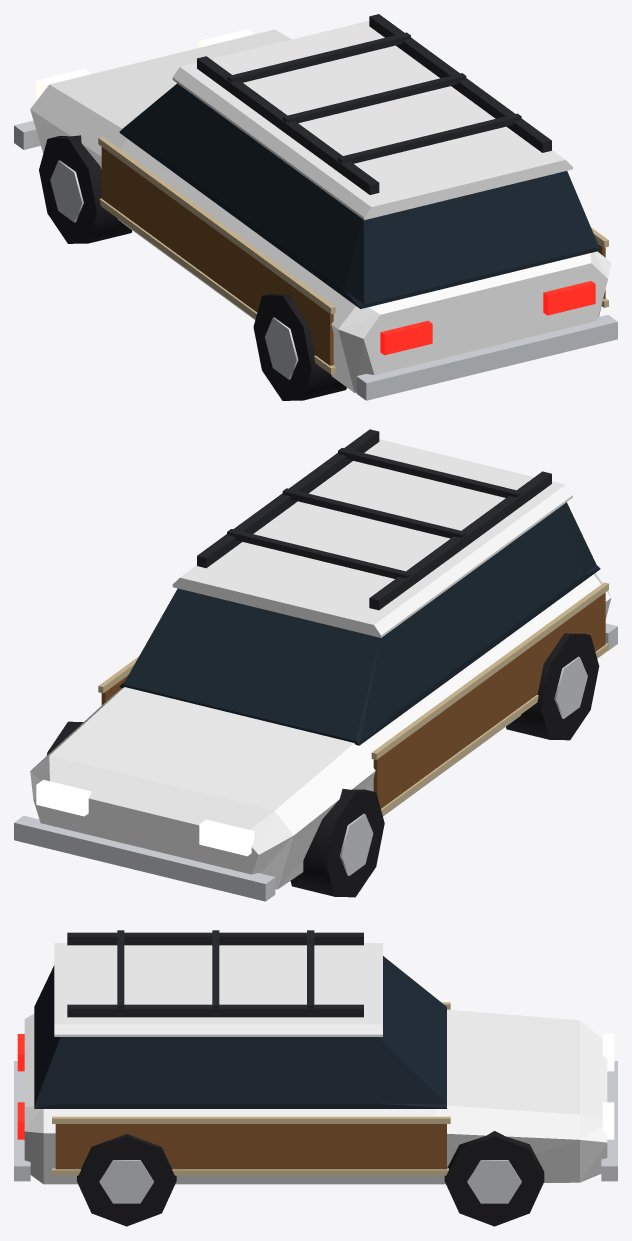
Rendered from wagon.glb.
The picture shows the model from 3 angles, top to bottom: view 1: azimuth 30°, elevation 25°; view 2: azimuth 150°, elevation 25°; view 3: azimuth 270°, elevation 25°; orthographic projection. The views are drawn at different scales.
Parts seen in each view (by area): view 1: object 2, object 3, object 1, object 4, wheel (×2), object 16, object 7, object 11, object 5, wheel-hub (×2), object 14, object 12 (+5 smaller); view 2: object 2, object 1, object 3, object 4, wheel (×2), object 15, object 7, object 11, object 5, wheel-hub (×2), object 12, object 14 (+4 smaller); view 3: object 2, object 1, object 3, object 8, wheel (×2), object 11, object 7, wheel-hub (×2), object 9, object 10, object 15, object 16 (+5 smaller).
Boxes of the visible parts, box(x1,y1,x2,y2) form: object 2: box(119, 83, 600, 308); object 3: box(172, 21, 572, 219); object 1: box(30, 29, 611, 392); object 4: box(101, 147, 333, 365); wheel (×2): box(39, 135, 346, 400); object 16: box(356, 315, 617, 400); object 7: box(197, 56, 379, 194); object 11: box(369, 14, 551, 152); object 5: box(98, 137, 335, 314); wheel-hub (×2): box(50, 160, 298, 379); object 14: box(338, 113, 521, 163); object 12: box(227, 32, 410, 82); object 2: box(119, 502, 600, 745); object 1: box(30, 573, 611, 889); object 3: box(172, 439, 572, 637); object 4: box(373, 592, 605, 808); wheel (×2): box(290, 633, 599, 897); object 15: box(14, 815, 275, 901); object 7: box(369, 471, 551, 610); object 11: box(197, 429, 379, 568); object 5: box(371, 582, 608, 759); wheel-hub (×2): box(339, 656, 587, 875); object 12: box(227, 529, 410, 578); object 14: box(338, 448, 521, 497); object 2: box(34, 956, 446, 1108); object 1: box(24, 1009, 607, 1184); object 3: box(54, 943, 382, 1036); object 8: box(55, 1124, 446, 1169); wheel (×2): box(77, 1131, 544, 1226); object 11: box(67, 1004, 363, 1017); object 7: box(67, 932, 363, 945); wheel-hub (×2): box(99, 1160, 521, 1203); object 9: box(52, 1116, 450, 1123); object 10: box(52, 1168, 448, 1175); object 15: box(601, 1061, 617, 1181); object 16: box(14, 1061, 30, 1181).
Bounding box in the file's own units: 2.43 × 1.84 × 5.09.
